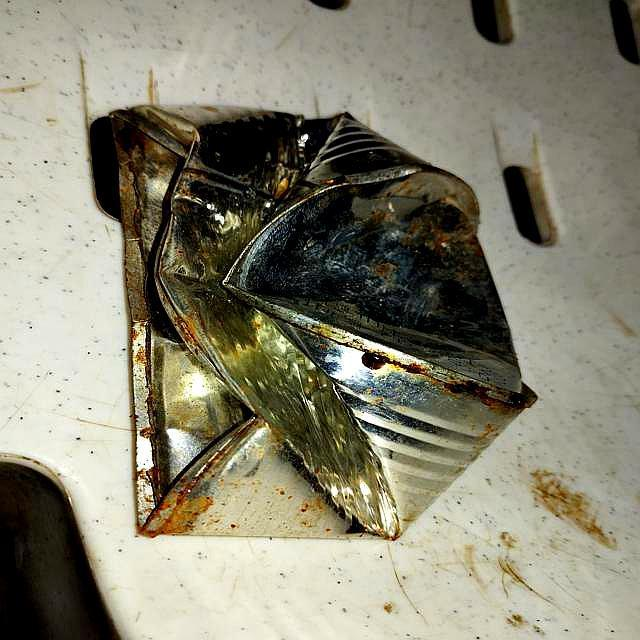Non-biodegradable: (98, 100, 540, 543)
